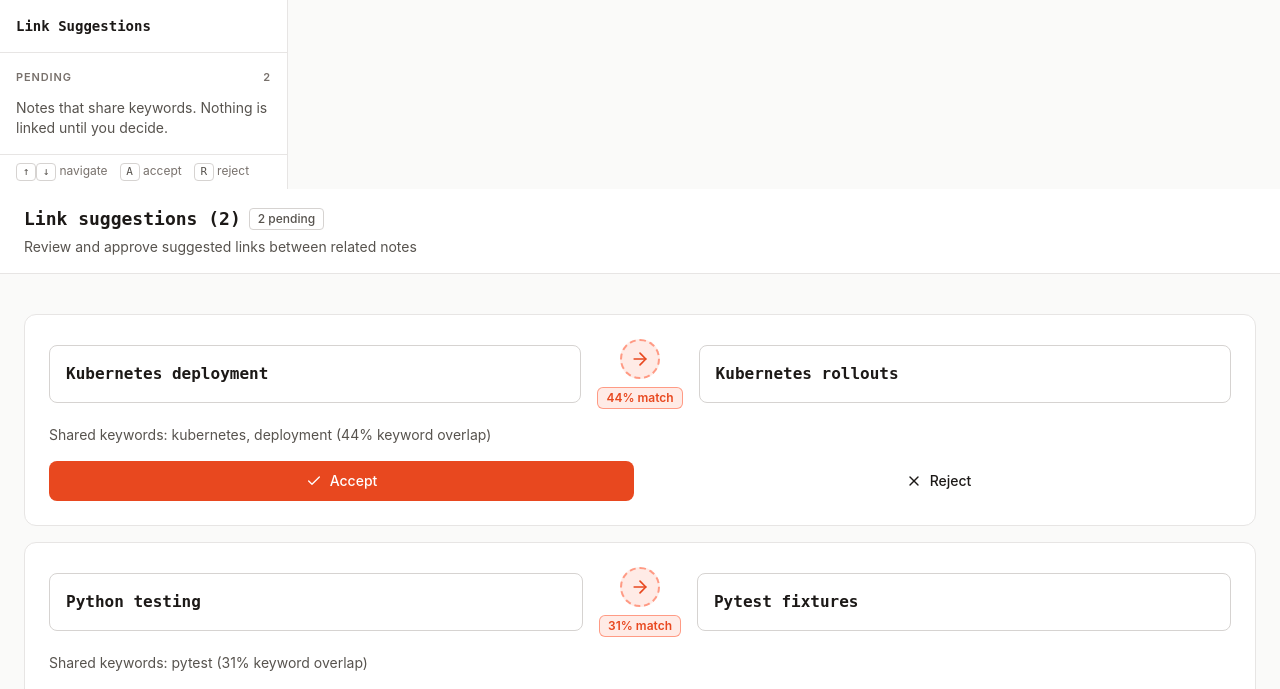
Scenario: SuggestionsList › accepts a suggestion, removes it, confirms, and refreshes graph data
The width and height of the screenshot is (1280, 689).
Check: the heading "Link suggestions (2)" is shown, box [24,205,241,233]
Click the button with aria-label "Accept link between Kubernetes deployment". click: {"x": 342, "y": 481}
box: [49,461,634,501]
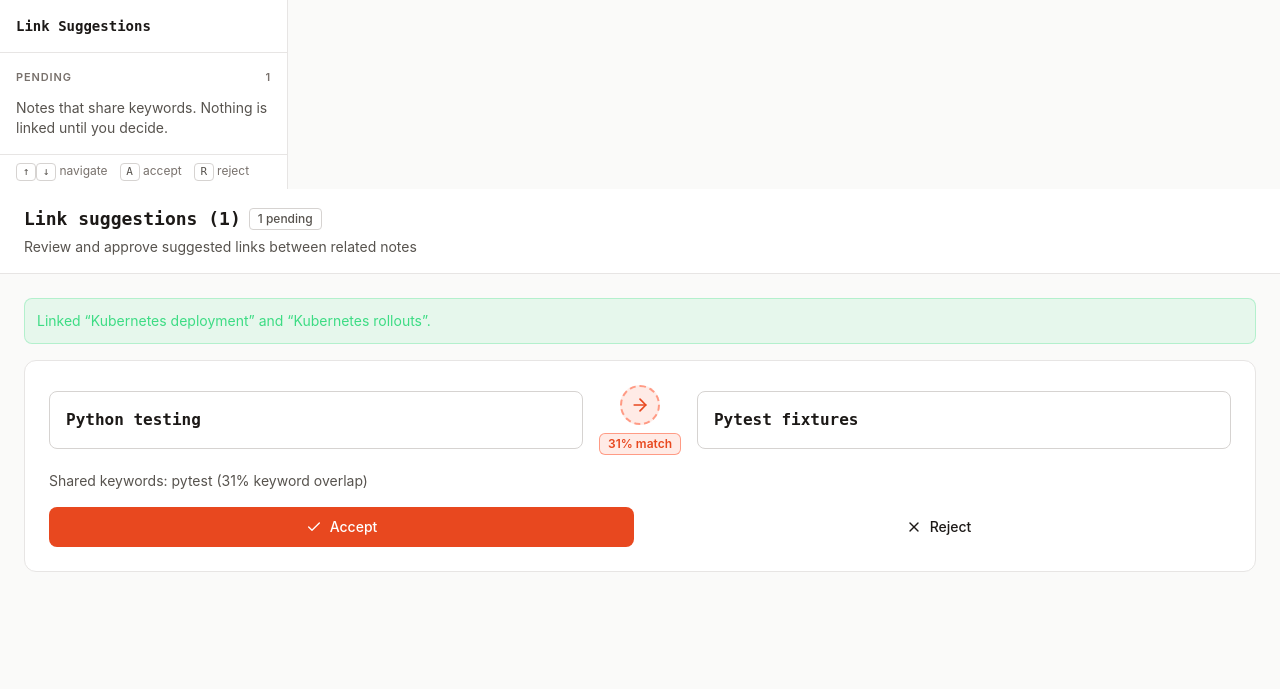
Check: the text "Linked “Kubernetes deployment” and “Kubernetes rollouts”." is shown, box [24,298,1256,344]
Check: the number of list items is 1, box [24,360,1256,572]
Check: the heading "Link suggestions (1)" is shown, box [24,205,241,233]
